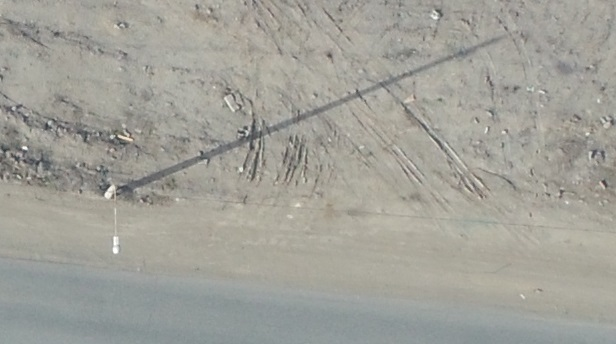opora: (103, 164, 154, 255)
